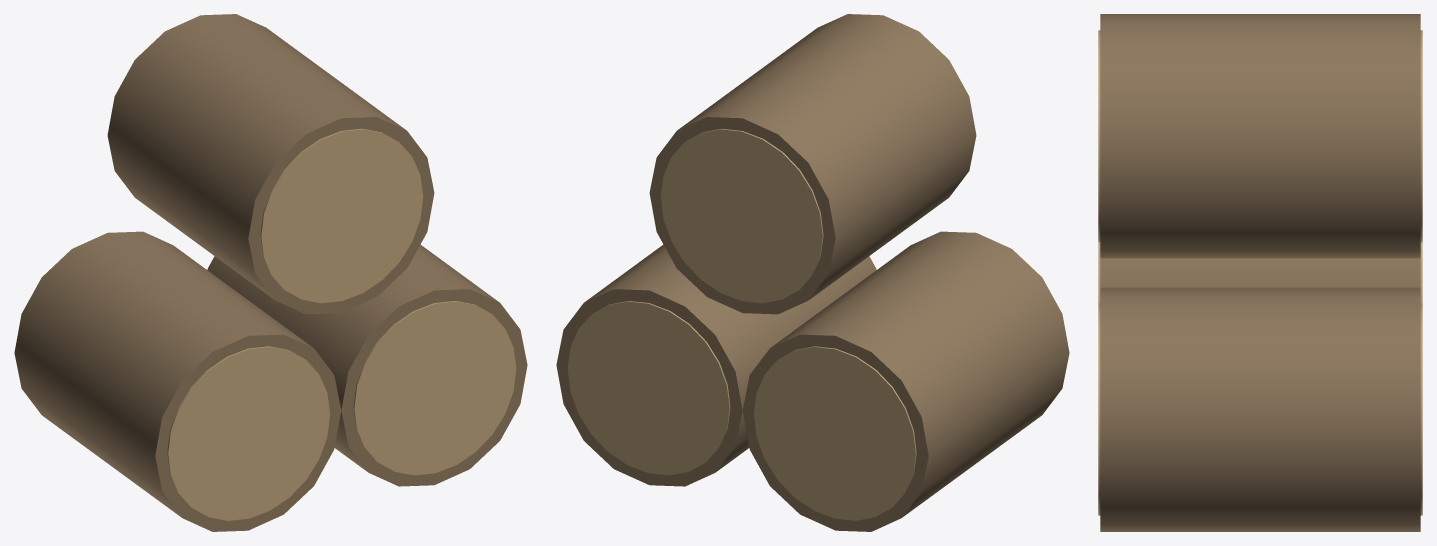
The model's file is logstack.glb.
3 views of the same model, side by side, from view 1: azimuth 30°, elevation 25°; view 2: azimuth 150°, elevation 25°; view 3: azimuth 270°, elevation 25° (orthographic). The views are drawn at different scales.
Visible parts, largest first — view 1: stacked-log-0, stacked-log-2, cut-end-0-0-269, cut-end-2-0-269, cut-end-1-0-269, stacked-log-1; view 2: stacked-log-0, stacked-log-2, cut-end-0--0-269, cut-end-2--0-269, cut-end-1--0-269, stacked-log-1; view 3: stacked-log-1, stacked-log-2, stacked-log-0, cut-end-1--0-269, cut-end-1-0-269, cut-end-2--0-269, cut-end-2-0-269.
Boxes of the visible parts, <box> form: stacked-log-0: <box>14,231,341,531</box>; stacked-log-2: <box>107,14,434,314</box>; cut-end-0-0-269: <box>167,346,329,520</box>; cut-end-2-0-269: <box>260,128,423,303</box>; cut-end-1-0-269: <box>353,301,516,475</box>; stacked-log-1: <box>207,244,527,486</box>; stacked-log-0: <box>742,231,1069,531</box>; stacked-log-2: <box>649,14,976,314</box>; cut-end-0--0-269: <box>754,346,916,520</box>; cut-end-2--0-269: <box>660,128,823,303</box>; cut-end-1--0-269: <box>567,301,730,475</box>; stacked-log-1: <box>556,244,876,486</box>; stacked-log-1: <box>1100,287,1420,531</box>; stacked-log-2: <box>1100,14,1420,258</box>; stacked-log-0: <box>1100,258,1420,287</box>; cut-end-1--0-269: <box>1420,303,1422,515</box>; cut-end-1-0-269: <box>1098,303,1100,515</box>; cut-end-2--0-269: <box>1420,30,1422,242</box>; cut-end-2-0-269: <box>1098,30,1100,242</box>.
Size of the model in its own units: 0.825 by 0.825 by 0.547.
